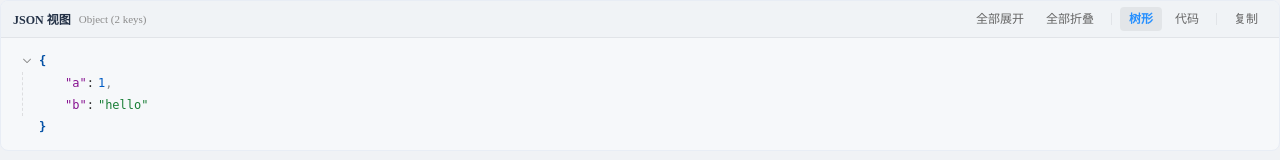
Test: JsonViewer & JsonTreeNode › supports switching between tree mode and raw code mode
Expected: the element showing "{ \"a\" : 1 , \"b\" : \"hello\" }" is shown, [15, 50, 1265, 138]
Click the button with class "toolbar-btn" showing "代码" at {"x": 1187, "y": 19}, box [1166, 7, 1208, 31]
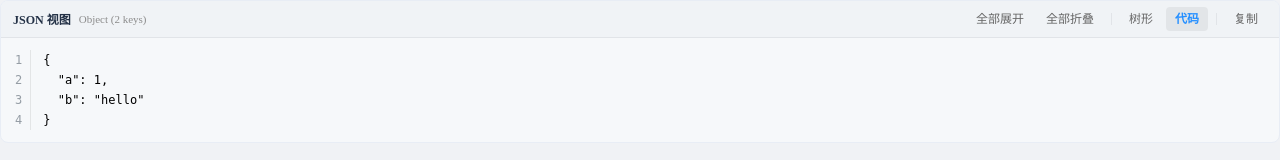
Expected: the text with class "raw-pre" shows "\"a\": 1", [43, 53, 144, 127]
